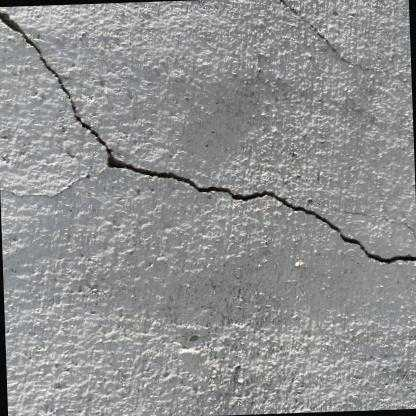crack: (0, 9, 416, 269)
